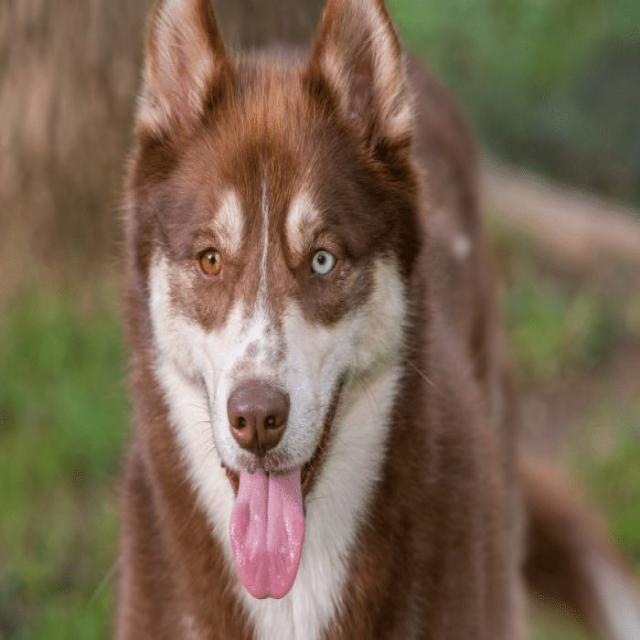eye: (308, 243, 340, 282), (195, 241, 225, 282)
